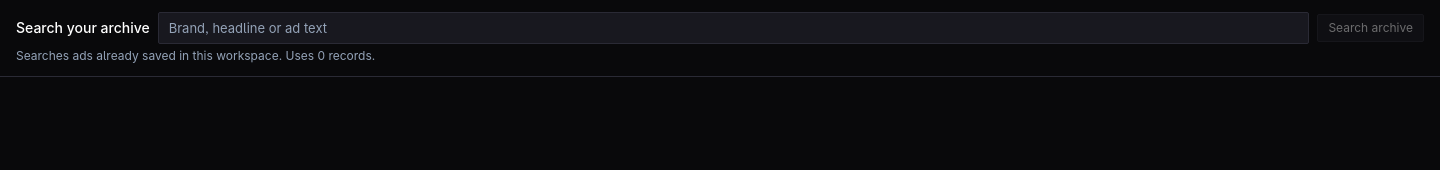
Test: W9-1 archive search › says when nothing matches
Step 1. Type "zz" into the search field labelled "Search your archive" → (734, 28), box [158,12,1309,44]
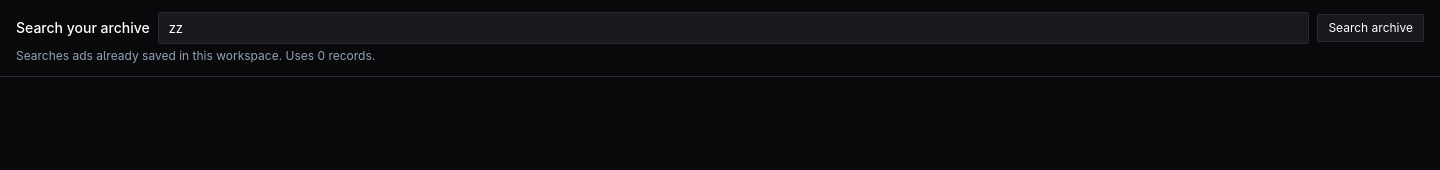
Step 2. Click the button "Search archive" → (1371, 28), box [1317,14,1424,42]
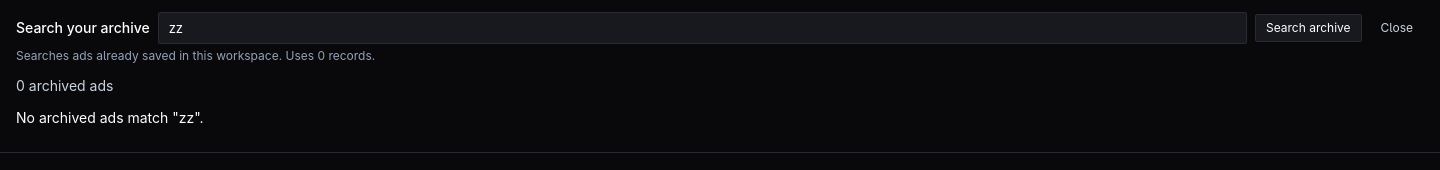
Now the text "No archived ads match \"zz\"." is shown, box [16,109,204,126]
